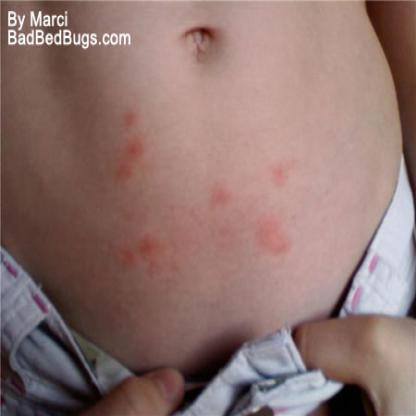Bed Bug: (110, 232, 190, 280), (111, 104, 146, 194), (250, 209, 298, 256), (267, 153, 298, 188), (200, 180, 236, 210)
